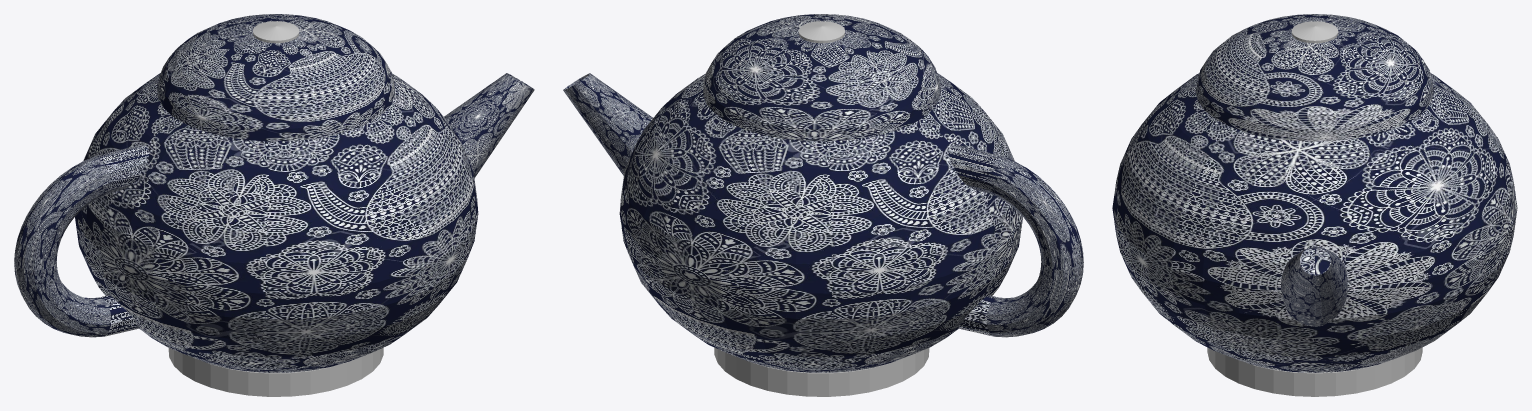
The model's file is teacup.fbx.
3 views of the same model, side by side, from view 1: azimuth 30°, elevation 25°; view 2: azimuth 150°, elevation 25°; view 3: azimuth 270°, elevation 25° (orthographic).
Visible parts, largest first — view 1: Torus, Sphere; view 2: Torus, Sphere; view 3: Torus, Sphere.
Boxes of the visible parts, bbox=[...] form: Torus: bbox=[14, 73, 534, 396]; Sphere: bbox=[157, 14, 395, 141]; Torus: bbox=[563, 73, 1083, 396]; Sphere: bbox=[702, 14, 940, 141]; Torus: bbox=[1112, 73, 1517, 396]; Sphere: bbox=[1195, 14, 1434, 141].
Bounding box in the file's own units: 552 × 333 × 376.
